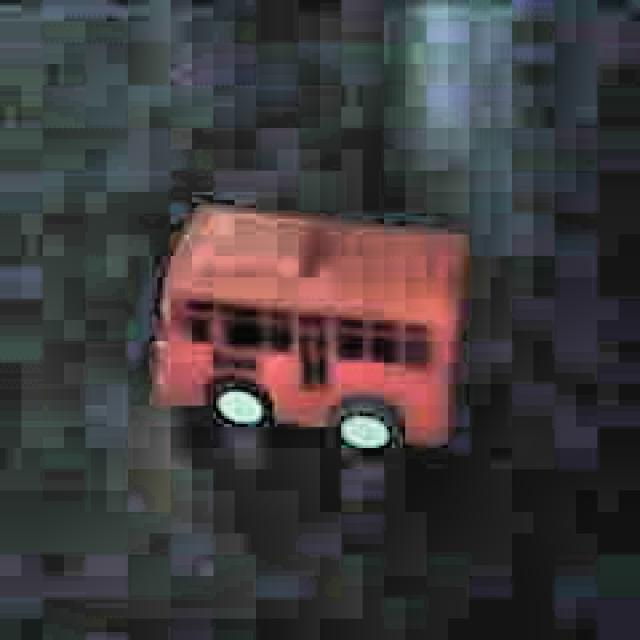bus: (143, 197, 476, 463)
